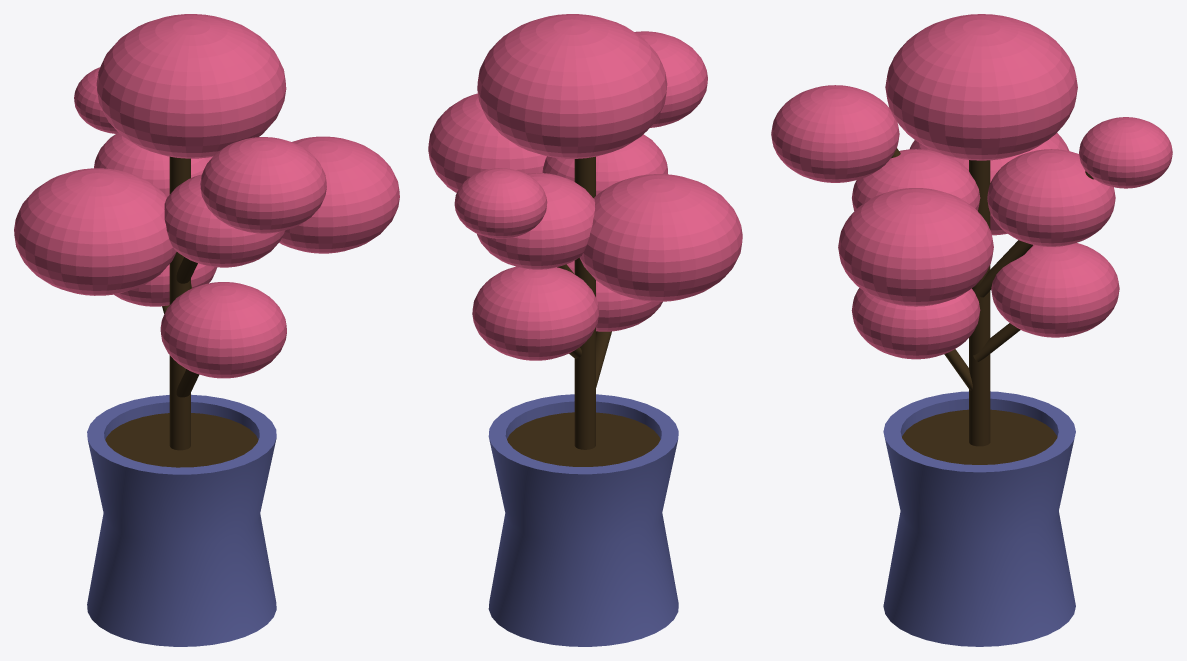
The picture shows the model from 3 angles, left to right: view 1: azimuth 30°, elevation 25°; view 2: azimuth 150°, elevation 25°; view 3: azimuth 270°, elevation 25°; orthographic projection.
Visible parts, largest first — view 1: 화분, 잎, 잎.005, 잎.007, 잎.002, 잎.004, 흙, 잎.001, 나무기둥, 잎.006, 잎.003, 잎.008; view 2: 화분, 잎, 잎.005, 잎.003, 잎.006, 잎.004, 흙, 잎.008, 잎.002, 나무기둥, 잎.001, 잎.007 (+1 smaller); view 3: 화분, 잎, 잎.004, 잎.002, 잎.006, 잎.003, 잎.007, 흙, 잎.008, 잎.001, 나무기둥, 잎.005 (+2 smaller).
Boxes of the visible parts, x1,y1,x2,y2 form: 화분: (87, 394, 276, 646); 잎: (96, 14, 286, 158); 잎.005: (14, 168, 176, 295); 잎.007: (160, 282, 286, 378); 잎.002: (200, 137, 326, 233); 잎.004: (279, 136, 399, 253); 흙: (105, 413, 258, 467); 잎.001: (164, 174, 285, 267); 나무기둥: (169, 156, 190, 450); 잎.006: (94, 132, 212, 196); 잎.003: (114, 263, 217, 306); 잎.008: (74, 67, 118, 133); 화분: (488, 394, 678, 646); 잎: (477, 14, 667, 158); 잎.005: (579, 174, 742, 301); 잎.003: (472, 266, 599, 360); 잎.006: (477, 173, 594, 269); 잎.004: (428, 93, 546, 192); 흙: (507, 412, 660, 466); 잎.008: (454, 168, 547, 238); 잎.002: (634, 31, 707, 127); 나무기둥: (574, 156, 595, 449); 잎.001: (542, 134, 667, 195); 잎.007: (567, 260, 662, 331); 화분: (883, 391, 1075, 646); 잎: (885, 14, 1077, 160); 잎.004: (838, 188, 993, 306); 잎.002: (771, 85, 899, 182); 잎.006: (987, 149, 1115, 246); 잎.003: (991, 243, 1119, 337); 잎.007: (851, 288, 980, 359); 흙: (902, 409, 1057, 464); 잎.008: (1079, 117, 1172, 188); 잎.001: (852, 149, 980, 210); 나무기둥: (969, 160, 990, 446); 잎.005: (910, 133, 1069, 235).
Size of the model in its own units: 399 by 670 by 417.
